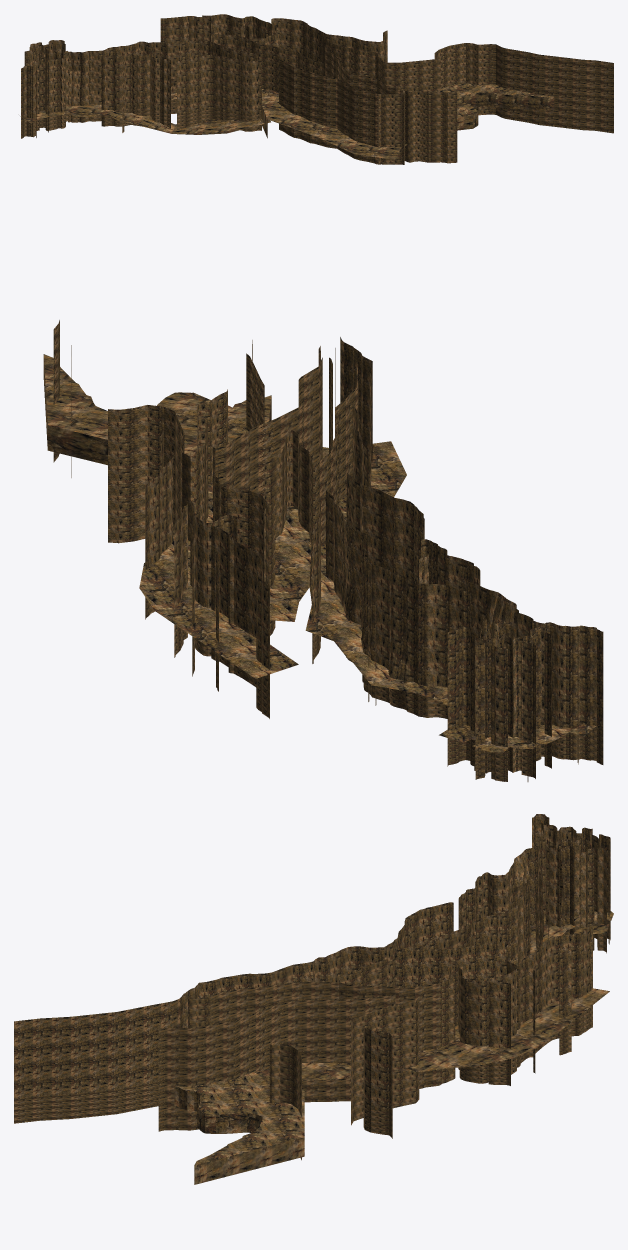
Rendered from level_01_collision_test.glb.
3 renders of one model, top to bottom at view 1: azimuth 30°, elevation 25°; view 2: azimuth 150°, elevation 25°; view 3: azimuth 270°, elevation 25°, orthographic. The views are drawn at different scales.
Parts seen in each view (by area): view 1: walls-col, floor-col, raised_cliff-col; view 2: walls-col, floor-col, raised_cliff-col; view 3: walls-col, raised_cliff-col, floor-col.
Part boxes in pixels (x1,y1,x2,y2): walls-col: (21,14,613,164); floor-col: (20,89,407,159); raised_cliff-col: (440,83,554,130); walls-col: (53,320,603,781); floor-col: (139,441,598,752); raised_cliff-col: (43,354,271,465); walls-col: (14,814,610,1160); raised_cliff-col: (174,1072,304,1184); floor-col: (255,911,613,1080).
Bounding box in the file's own units: 354 × 52.48 × 279.
1 material, 1 textured.
